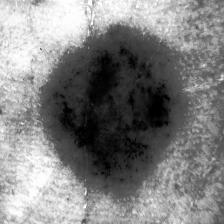Benign Marking or Mole: (41, 29, 178, 193)
